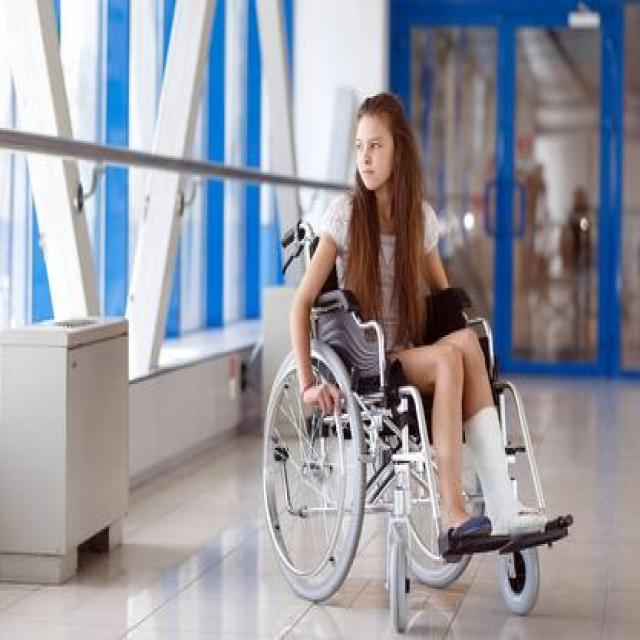wheelchairs: (258, 215, 571, 632)
